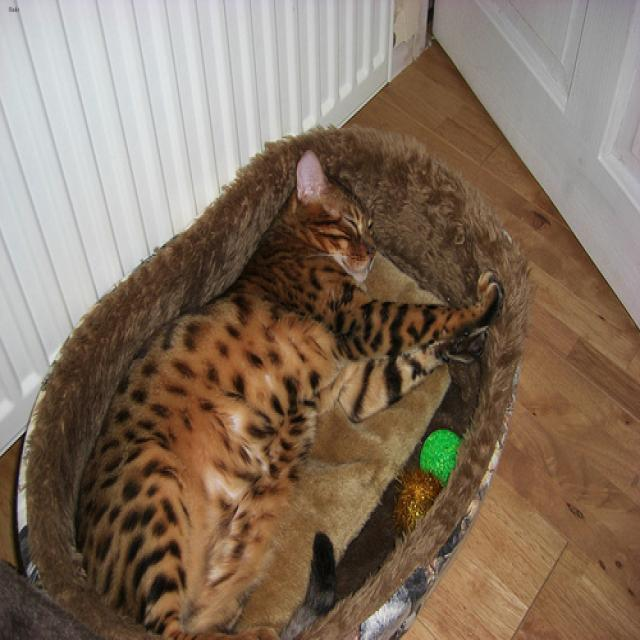Bengal: (289, 145, 395, 301)
